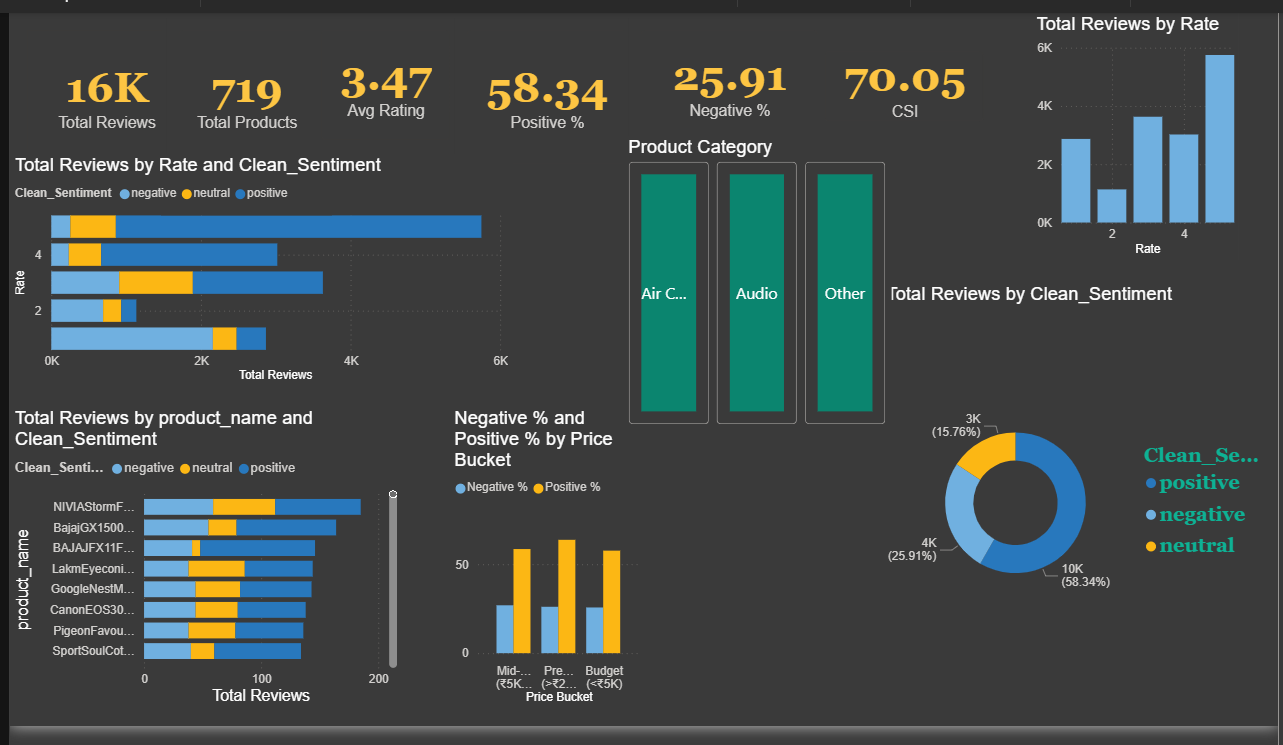

What the dashboard file says about the page in this screenshot:
{"tool":"powerbi","page":{"name":"Descriptive ","canvas":[1280,720],"ordinal":0},"visuals":[{"type":"cardVisual","fields":{"Data":["Reviews.Total Reviews"]},"box":[0,0,194.5,169.2],"z":0},{"type":"cardVisual","fields":{"Data":["Reviews.Total Products"]},"box":[152.2,0,171.3,169.2],"z":1000},{"type":"cardVisual","fields":{"Data":["Reviews.Avg Rating"]},"box":[296,0,164.9,145.9],"z":2000},{"type":"cardVisual","fields":{"Data":["Reviews.Positive %"]},"box":[444.1,0,196.7,169.2],"z":3000},{"type":"cardVisual","fields":{"Data":["Reviews.Negative %"]},"box":[619.6,0,213.6,145.9],"z":4000},{"type":"cardVisual","fields":{"Data":["Reviews.CSI"]},"box":[805.6,21.1,194.5,105.7],"z":5000},{"type":"donutChart","fields":{"Category":["Reviews.Clean_Sentiment"],"Y":["Reviews.Total Reviews"]},"box":[879.8,272.6,399.8,422.5],"z":6000},{"type":"clusteredColumnChart","fields":{"Category":["Reviews.Rate"],"Y":["Reviews.Total Reviews"]},"box":[1031.9,0,209.3,249.5],"z":7000},{"type":"barChart","fields":{"Series":["Reviews.Clean_Sentiment"],"Y":["Reviews.Total Reviews"],"Category":["Reviews.Rate"]},"box":[0,141.7,507.5,234.7],"z":8000},{"type":"barChart","fields":{"Series":["Reviews.Clean_Sentiment"],"Y":["Reviews.Total Reviews"],"Category":["Reviews.product_name"]},"box":[0,397.5,395.4,304.5],"z":9000},{"type":"clusteredColumnChart","fields":{"Y":["Reviews.Negative %","Reviews.Positive %"],"Category":["Reviews.Price Bucket"]},"box":[444,398,197,304],"z":10000},{"type":"advancedSlicerVisual","fields":{"Values":["Reviews.Product Category"]},"box":[619.6,124.8,270.7,296],"z":11000}]}

Visuals, with their boxes on the page's 1280x720 design canvas (x1, y1, x2, y2). These are canvas units, not pixel positions in the 1283x745 screenshot, which may show the page scaled, cropped or inside an application window:
cardVisual - Reviews.Total Reviews: box(0, 0, 194, 169)
cardVisual - Reviews.Total Products: box(152, 0, 324, 169)
cardVisual - Reviews.Avg Rating: box(296, 0, 461, 146)
cardVisual - Reviews.Positive %: box(444, 0, 641, 169)
cardVisual - Reviews.Negative %: box(620, 0, 833, 146)
cardVisual - Reviews.CSI: box(806, 21, 1000, 127)
donutChart - Reviews.Clean_Sentiment x Reviews.Total Reviews: box(880, 273, 1280, 695)
clusteredColumnChart - Reviews.Rate x Reviews.Total Reviews: box(1032, 0, 1241, 250)
barChart - Reviews.Clean_Sentiment x Reviews.Total Reviews: box(0, 142, 508, 376)
barChart - Reviews.Clean_Sentiment x Reviews.Total Reviews: box(0, 398, 395, 702)
clusteredColumnChart - Reviews.Negative % x Reviews.Positive %: box(444, 398, 641, 702)
advancedSlicerVisual - Reviews.Product Category: box(620, 125, 890, 421)
